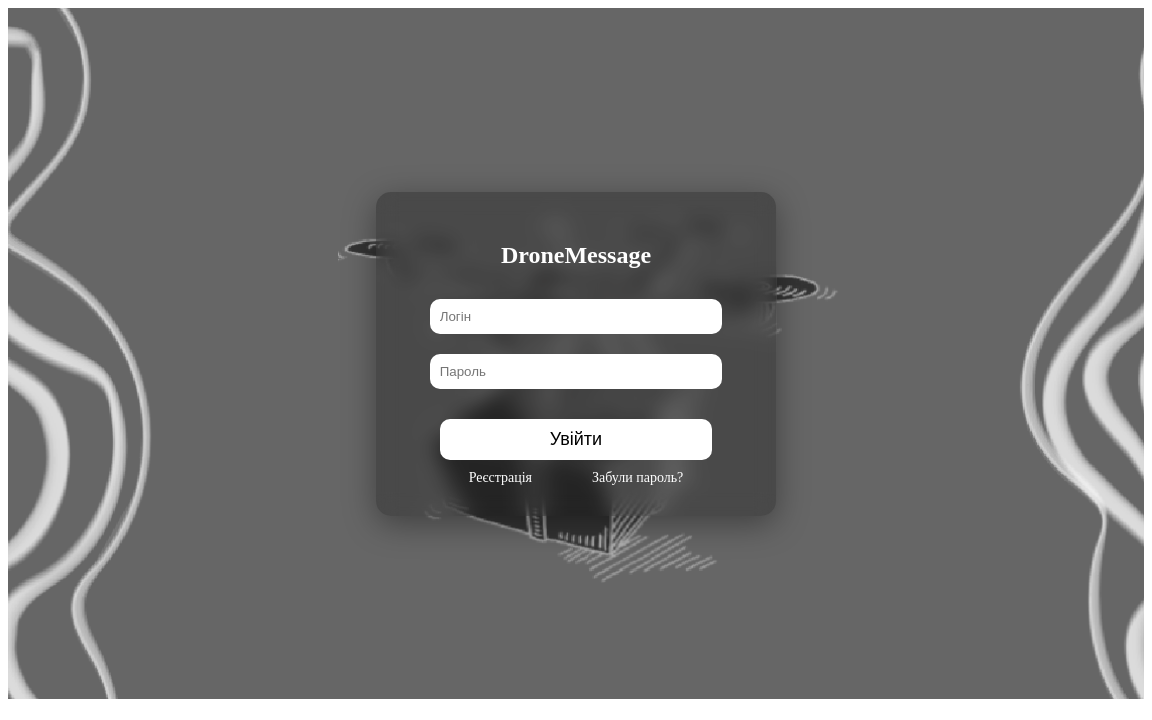
Test case: Компонент LoginBox › повинен обробляти серверні помилки належним чином
Type "user" into the field with placeholder "Логін".
click(577, 317); type("user")  # box [430,299,723,334]
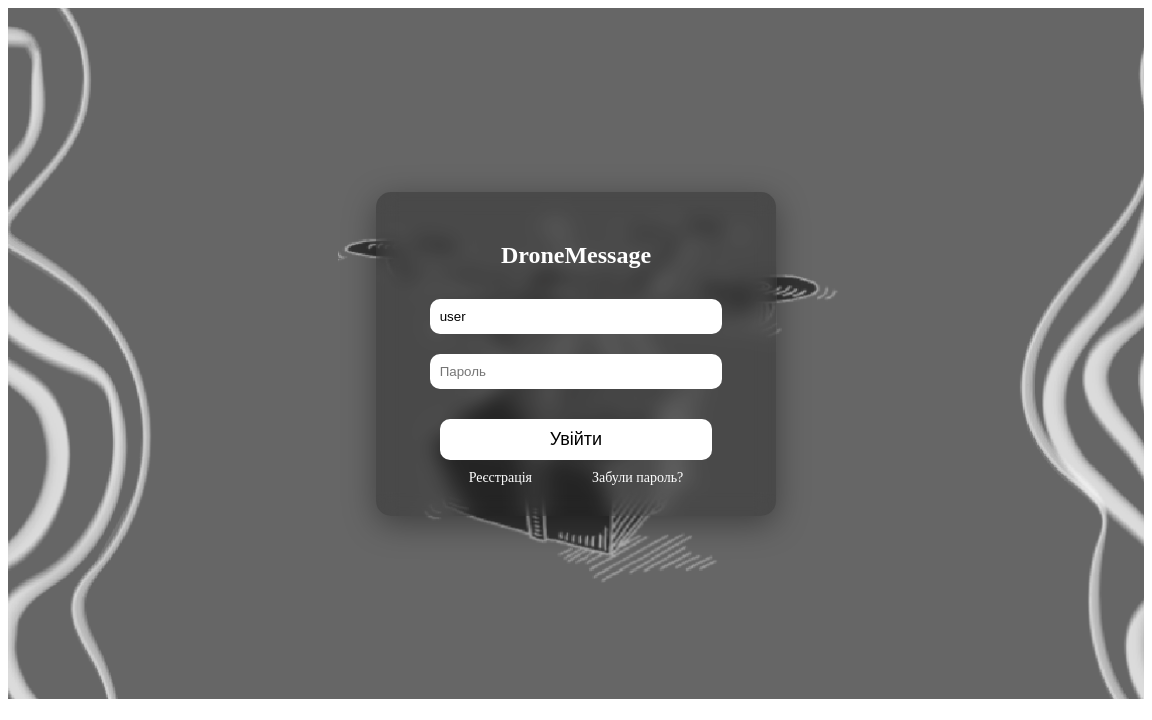
Type "password" into the password field with placeholder "Пароль".
click(577, 372); type("password")  # box [430,354,723,389]
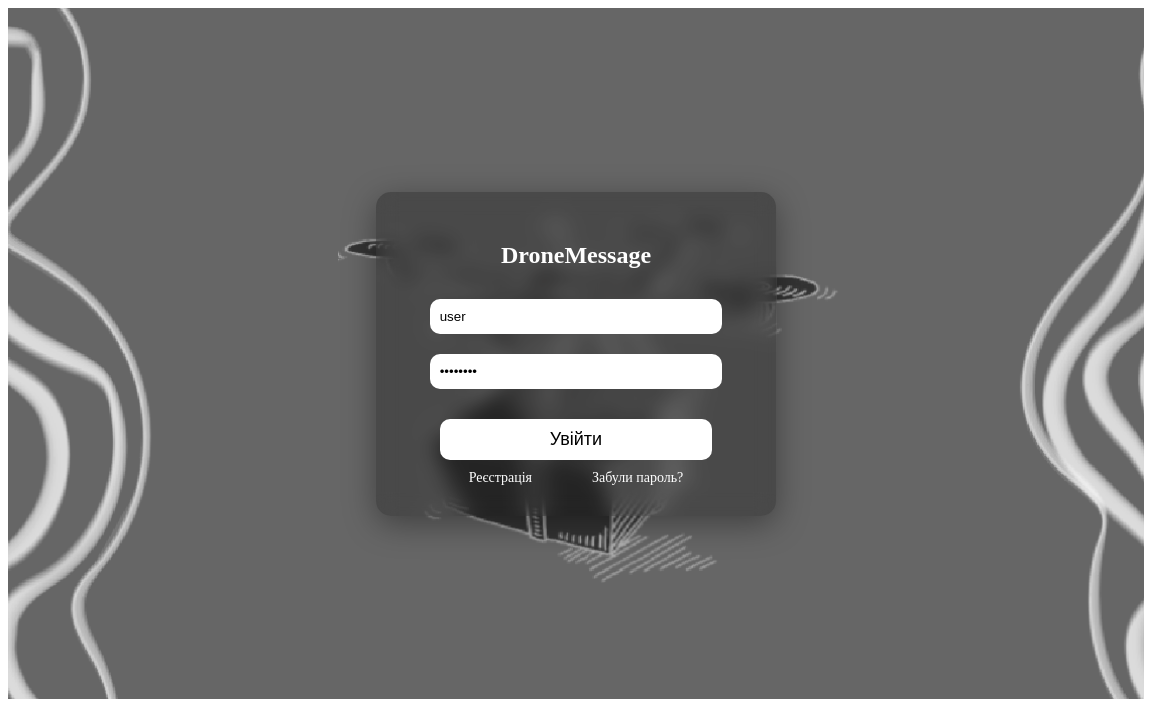
Click the button with class "login-button".
click(577, 440)  # box [440,419,713,460]
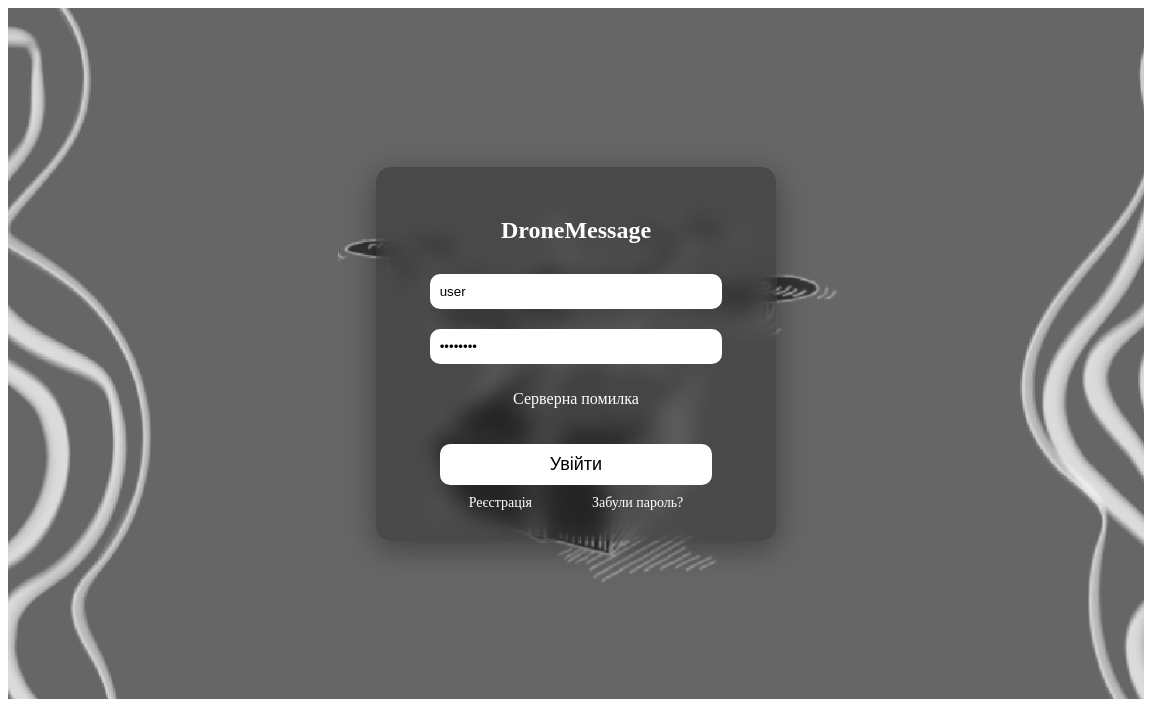
Check: the text with class "error-message" reads "Серверна помилка", box [513,390,639,407]
